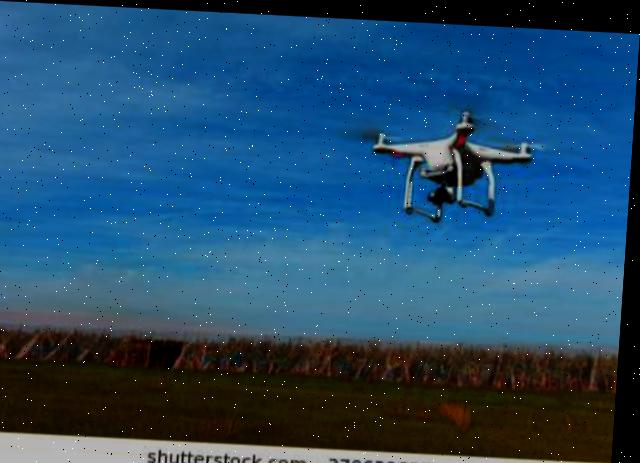drone: (351, 93, 552, 226)
